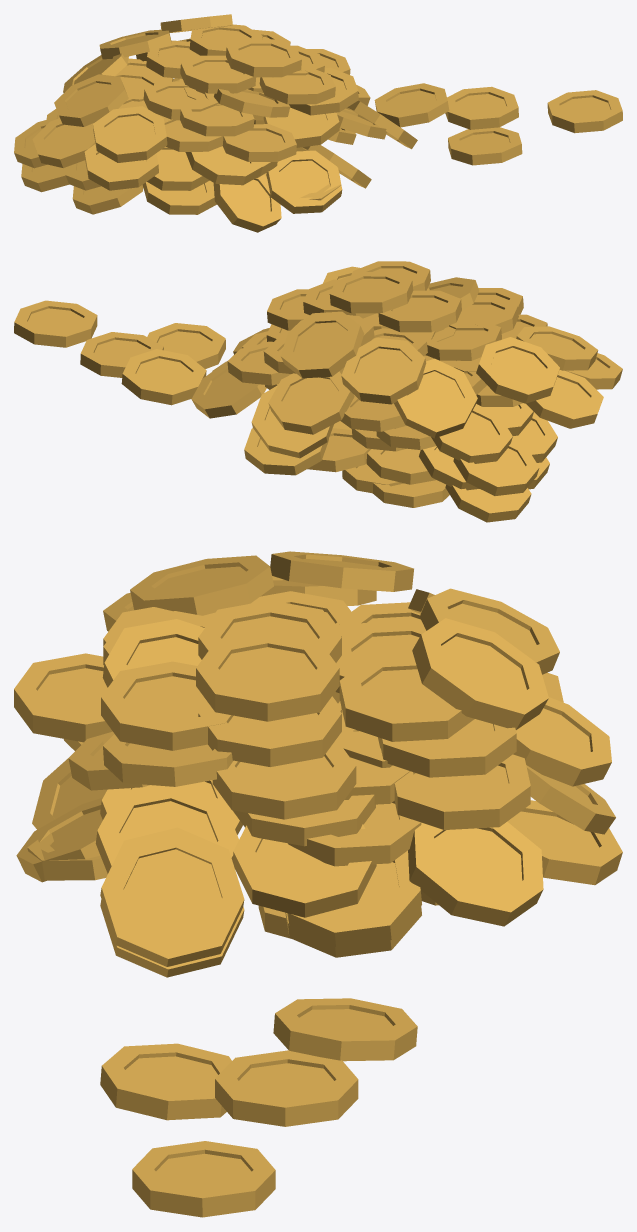
File: Coins1.fbx
3 renders of one model, top to bottom at view 1: azimuth 30°, elevation 25°; view 2: azimuth 150°, elevation 25°; view 3: azimuth 270°, elevation 25°, orthographic. The views are drawn at different scales.
Parts seen in each view (by area): view 1: mountain of coins L; view 2: mountain of coins L; view 3: mountain of coins L.
Boxes of the visible parts, x1,y1,x2,y2 form: mountain of coins L: [14, 14, 622, 232]; mountain of coins L: [14, 261, 622, 522]; mountain of coins L: [14, 551, 622, 1217].
Size of the model in its own units: 62.33 by 15.26 by 31.24.
